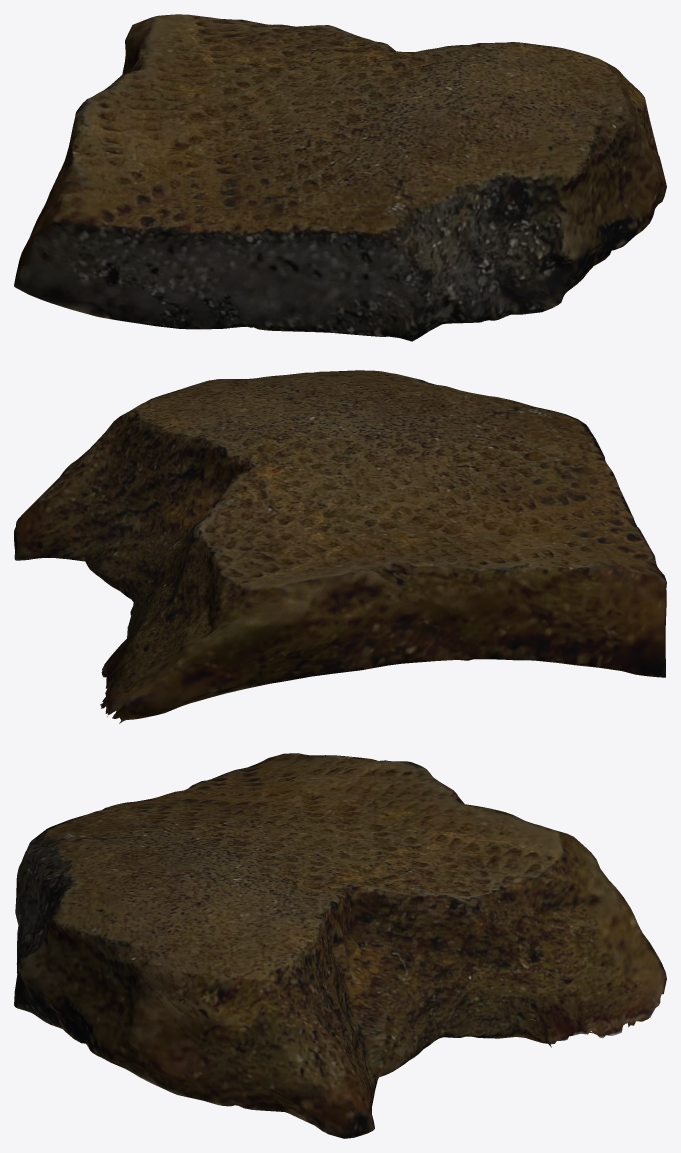
The model's file is nng.glb.
3 renders of one model, top to bottom at view 1: azimuth 30°, elevation 25°; view 2: azimuth 150°, elevation 25°; view 3: azimuth 270°, elevation 25°, orthographic. The views are drawn at different scales.
Bounding box in the file's own units: 0.065 × 0.0153 × 0.059.
1 material, 1 textured.
